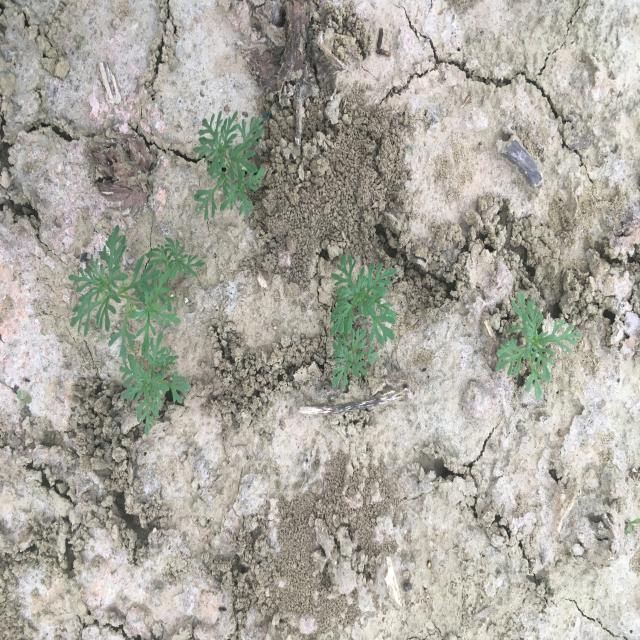Ragweed: (67, 225, 207, 438), (494, 290, 584, 403), (329, 252, 398, 390), (191, 108, 266, 223)
